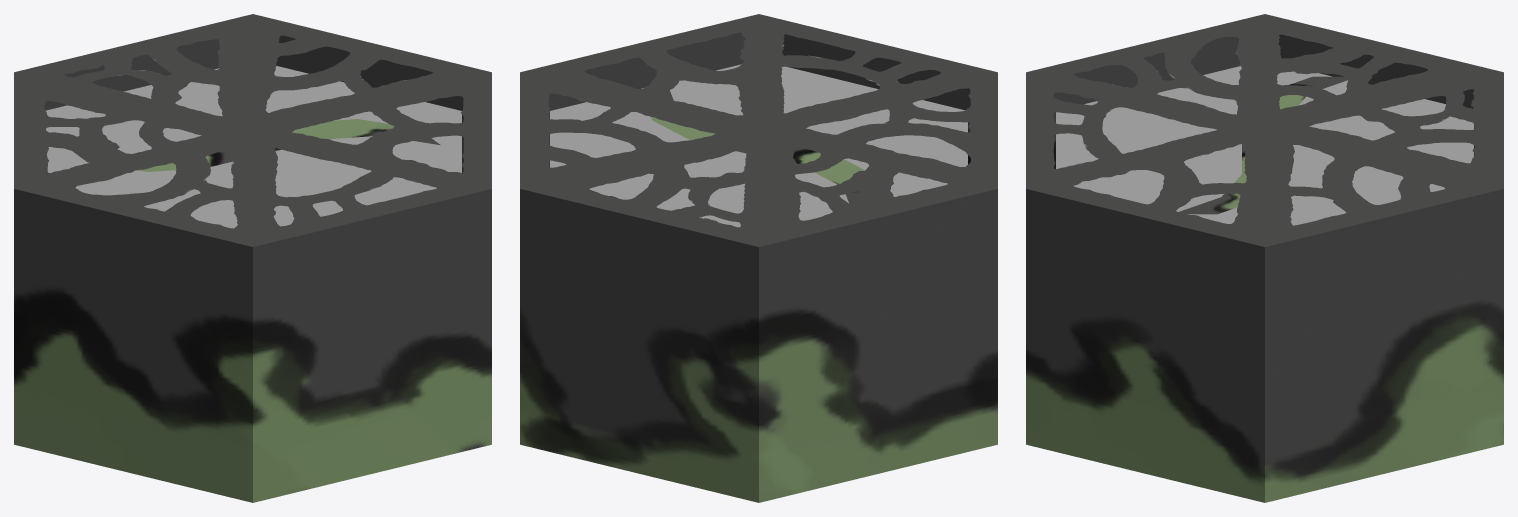
File: Ancient_Blower.fbx
3 views of the same model, side by side, from view 1: azimuth 30°, elevation 25°; view 2: azimuth 150°, elevation 25°; view 3: azimuth 270°, elevation 25° (orthographic).
Visible parts, largest first — view 1: BlowerCase, light, fan; view 2: BlowerCase, light, fan; view 3: BlowerCase, light, fan.
Part boxes in pixels (bbox=[...]): BlowerCase: bbox=[14, 14, 491, 502]; light: bbox=[45, 66, 461, 228]; fan: bbox=[72, 119, 440, 171]; BlowerCase: bbox=[520, 14, 997, 502]; light: bbox=[550, 64, 967, 227]; fan: bbox=[651, 90, 864, 207]; BlowerCase: bbox=[1026, 14, 1503, 502]; light: bbox=[1056, 66, 1473, 225]; fan: bbox=[1179, 76, 1348, 214].
Bounding box in the file's own units: 2 × 1.02 × 1.73.
2 materials, 1 textured.
